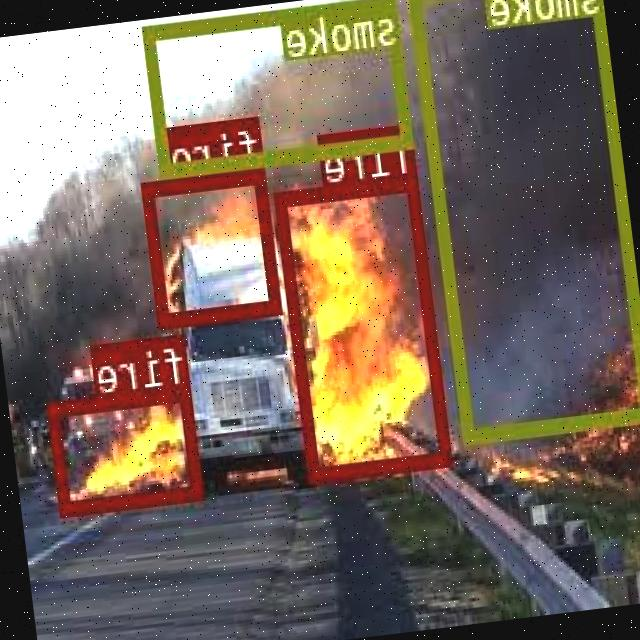fire: (277, 171, 455, 480), (144, 165, 284, 326), (48, 384, 206, 514)
smoke: (409, 0, 640, 439), (145, 0, 415, 176)
